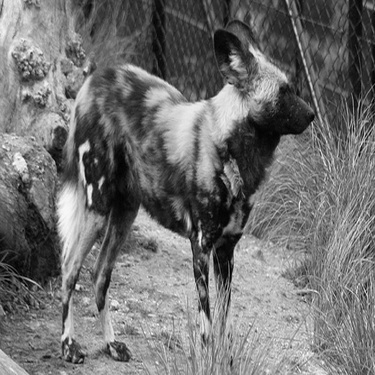dog: (15, 20, 319, 371)
